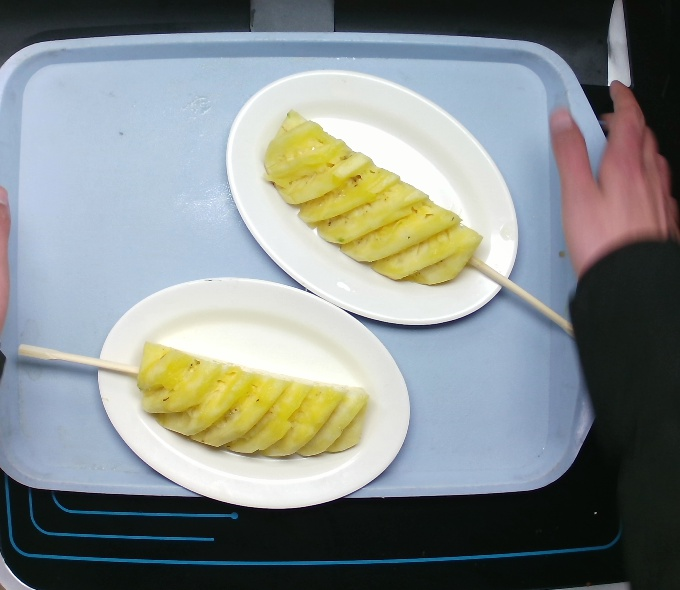wcq-BoLuo: (247, 99, 497, 300), (119, 324, 375, 478)
